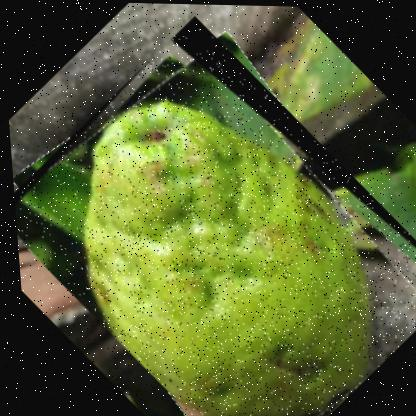guava: (0, 9, 415, 415)
